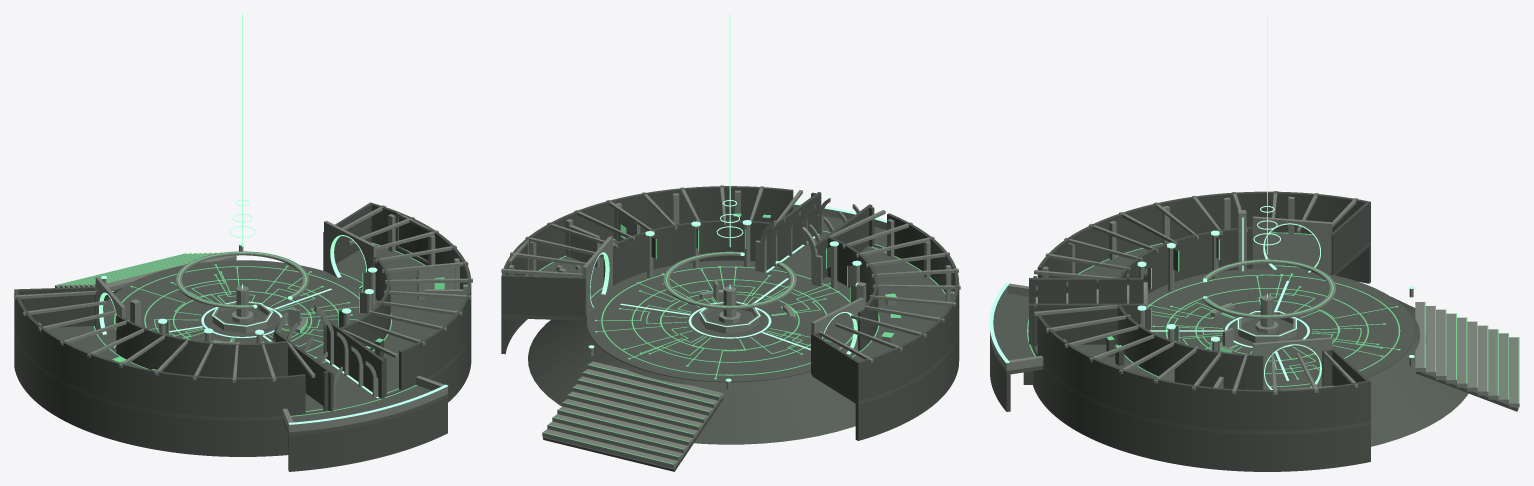
Rendered from lobby.glb.
3 views of the same model, side by side, from view 1: azimuth 30°, elevation 25°; view 2: azimuth 150°, elevation 25°; view 3: azimuth 270°, elevation 25° (orthographic). The views are drawn at different scales.
Visible parts, largest first — view 1: lobby-000, lobby-015, lobby-011, lobby-178, lobby-012, lobby-051, lobby-047, lobby-010, lobby-016, lobby-172, lobby-008, lobby-050 (+13 smaller); view 2: lobby-000, lobby-145, lobby-051, lobby-015, lobby-050, lobby-010, lobby-011, lobby-053, lobby-005, lobby-012, lobby-016, lobby-008 (+23 smaller); view 3: lobby-000, lobby-051, lobby-048, lobby-015, lobby-145, lobby-050, lobby-012, lobby-007, lobby-008, lobby-010, lobby-172, lobby-047 (+21 smaller).
Part boxes in pixels (bbox=[...]): lobby-000: bbox=[103, 260, 378, 368]; lobby-015: bbox=[14, 289, 305, 417]; lobby-011: bbox=[14, 332, 288, 456]; lobby-178: bbox=[288, 397, 447, 471]; lobby-012: bbox=[116, 314, 287, 377]; lobby-051: bbox=[369, 202, 471, 389]; lobby-047: bbox=[323, 243, 471, 396]; lobby-010: bbox=[14, 326, 328, 421]; lobby-016: bbox=[14, 287, 95, 327]; lobby-172: bbox=[282, 385, 447, 435]; lobby-008: bbox=[326, 319, 384, 398]; lobby-050: bbox=[340, 256, 390, 350]; lobby-000: bbox=[587, 260, 866, 382]; lobby-145: bbox=[528, 302, 866, 444]; lobby-051: bbox=[501, 186, 793, 314]; lobby-015: bbox=[856, 213, 959, 401]; lobby-050: bbox=[603, 220, 770, 284]; lobby-010: bbox=[811, 246, 959, 404]; lobby-011: bbox=[855, 325, 959, 440]; lobby-053: bbox=[501, 274, 585, 316]; lobby-005: bbox=[594, 266, 839, 379]; lobby-012: bbox=[827, 237, 878, 350]; lobby-016: bbox=[811, 334, 860, 400]; lobby-008: bbox=[766, 192, 821, 270]; lobby-000: bbox=[1147, 268, 1415, 389]; lobby-051: bbox=[1037, 315, 1370, 430]; lobby-048: bbox=[1033, 367, 1370, 471]; lobby-015: bbox=[1037, 191, 1370, 277]; lobby-145: bbox=[1367, 296, 1468, 446]; lobby-050: bbox=[1117, 305, 1263, 389]; lobby-012: bbox=[1118, 227, 1252, 292]; lobby-007: bbox=[1029, 278, 1143, 303]; lobby-008: bbox=[1029, 303, 1145, 344]; lobby-010: bbox=[1079, 233, 1370, 293]; lobby-172: bbox=[990, 293, 1043, 374]; lobby-047: bbox=[1033, 344, 1370, 434].
Bounding box in the file's own units: 54.78 × 46.26 × 60.95.
